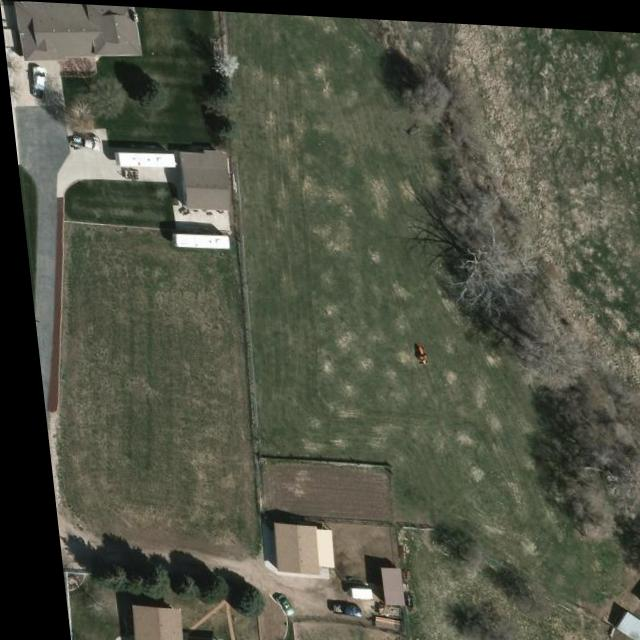vehicle: (67, 132, 100, 154), (260, 591, 284, 616), (29, 67, 47, 100), (318, 600, 349, 616)
